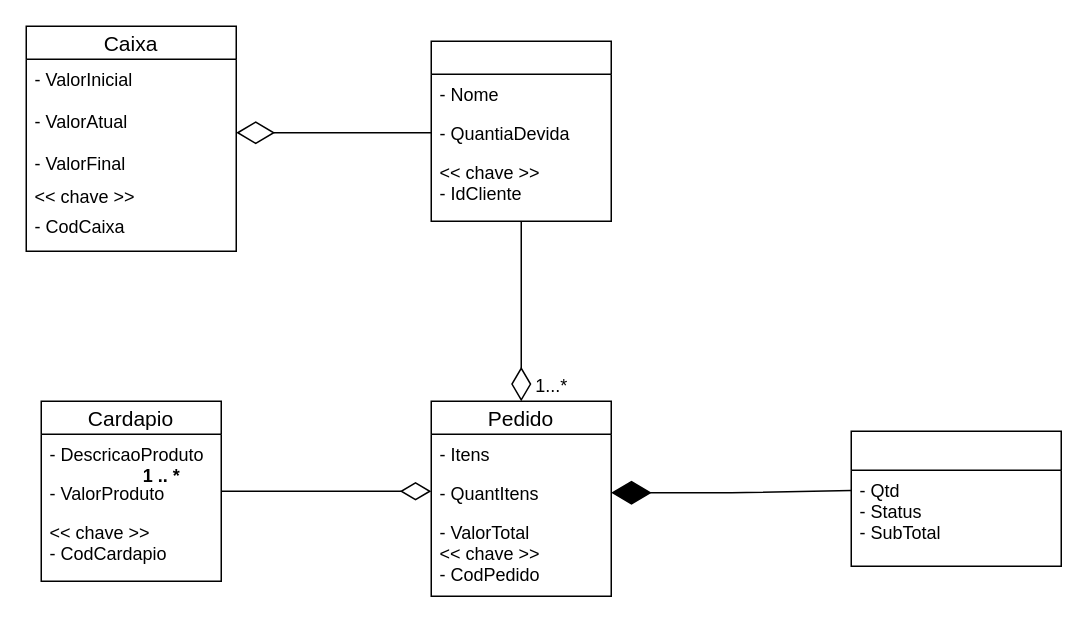
This 1088x627 diagram has some shape labels left out. Here are the shapes that lost their labels. From the top down, the box of each, then its label:
(430, 40, 611, 221): Devedor
(850, 430, 1061, 566): ItemPedido
